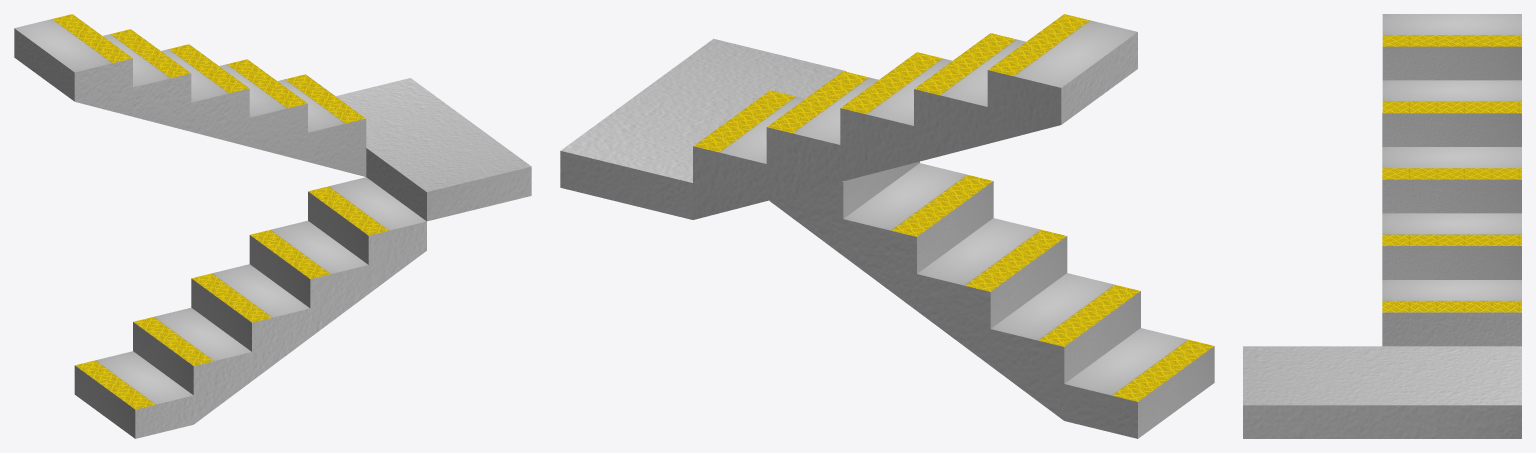
File: Stair.FBX
The picture shows the model from 3 angles, left to right: view 1: azimuth 30°, elevation 25°; view 2: azimuth 150°, elevation 25°; view 3: azimuth 270°, elevation 25°; orthographic projection. The views are drawn at different scales.
Visible parts, largest first — view 1: UTypeStair002; view 2: UTypeStair002; view 3: UTypeStair002.
Boxes of the visible parts, left/top/right/bottom form: UTypeStair002: left=14, top=14, right=531, bottom=438; UTypeStair002: left=560, top=14, right=1214, bottom=438; UTypeStair002: left=1243, top=14, right=1521, bottom=438.
Bounding box in the file's own units: 567 × 440 × 300.
1 material, 1 textured.
